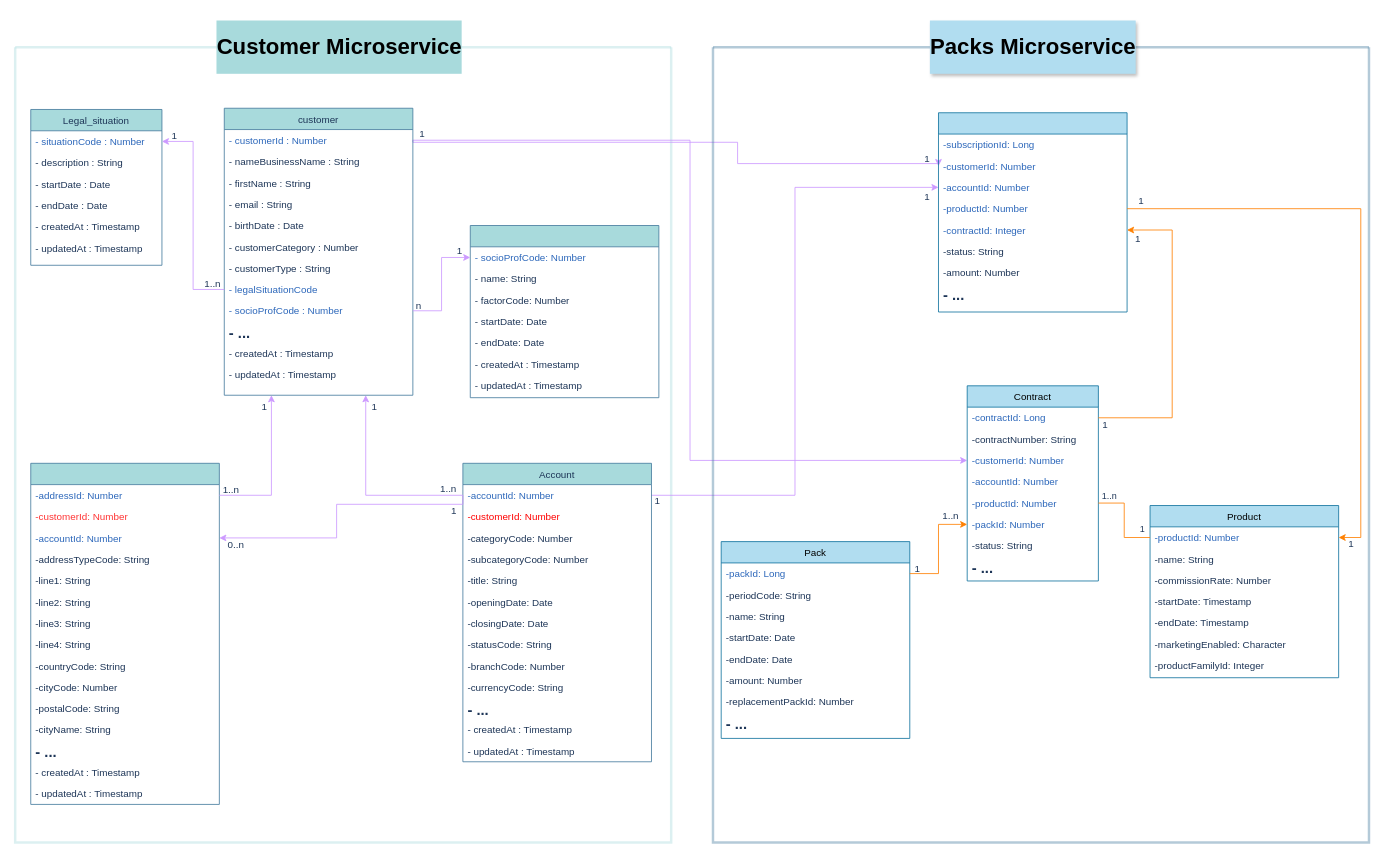
The diagram is 1384 pixels wide and 858 high, and some of its shapes have lost their labels. The box of each missing label's shape, as (x1, y1, x2, y2) in pixels:
AddressLink: (30, 462, 219, 804)
PackSubscription: (938, 112, 1127, 312)
SocioProfessionalCat: (469, 225, 659, 398)
